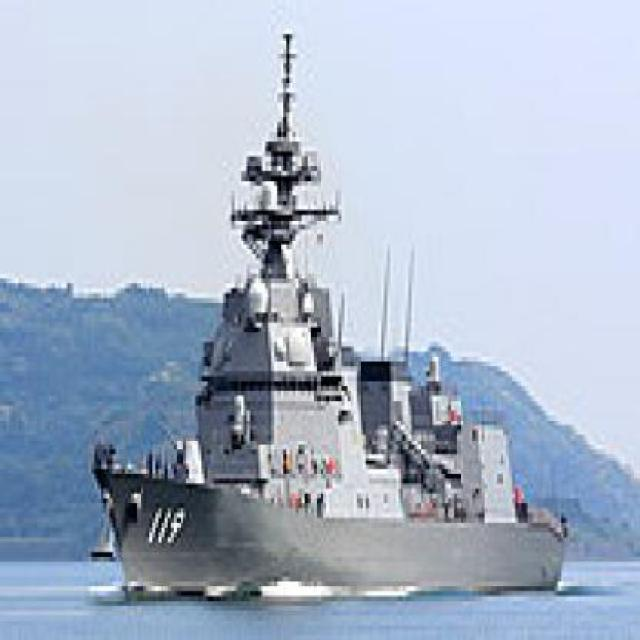warship2: (65, 26, 580, 612)
